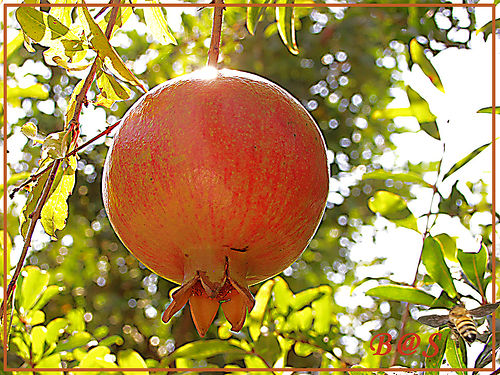pomogranate: (102, 68, 329, 336)
